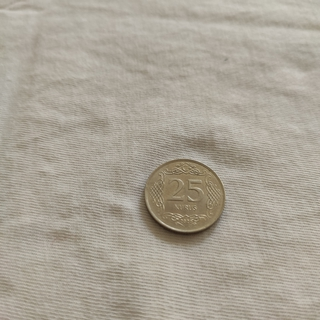25KURUS: (142, 157, 225, 235)
